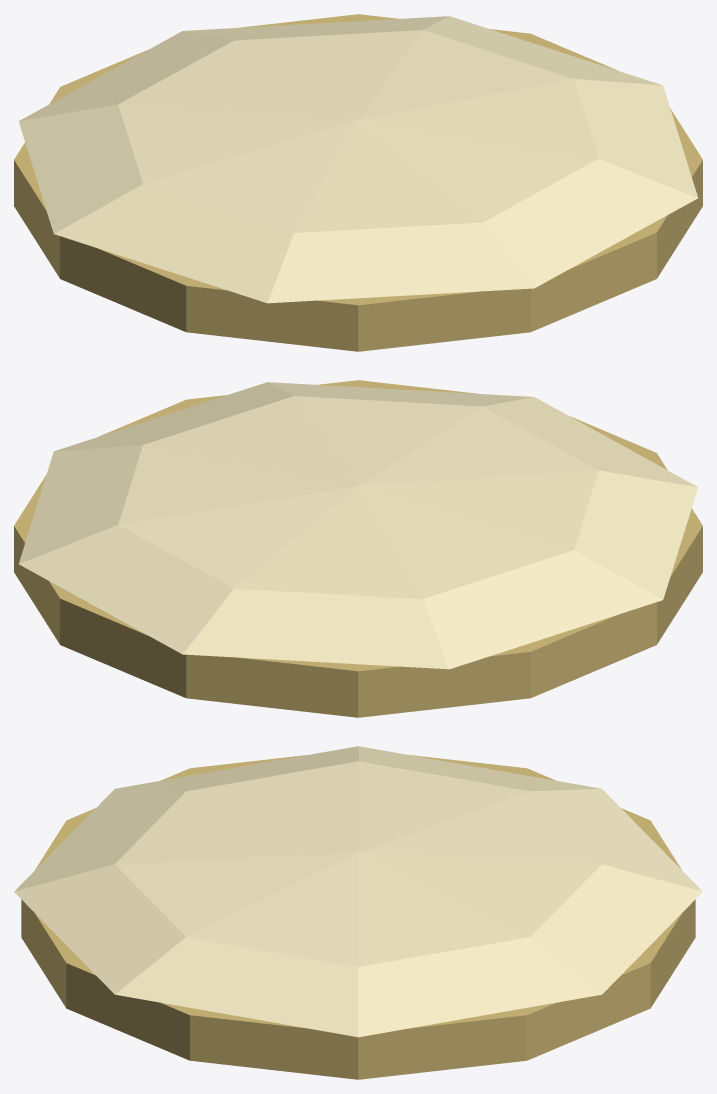
The model's file is pedestal.glb.
3 views of the same model, one above another, from view 1: azimuth 30°, elevation 25°; view 2: azimuth 150°, elevation 25°; view 3: azimuth 270°, elevation 25° (orthographic). The views are drawn at different scales.
Parts seen in each view (by area): view 1: pedestal_Surface; view 2: pedestal_Surface; view 3: pedestal_Surface.
Boxes of the visible parts, left/top/right/bottom form: pedestal_Surface: left=14, top=14, right=702, bottom=351; pedestal_Surface: left=14, top=380, right=702, bottom=717; pedestal_Surface: left=14, top=746, right=702, bottom=1079.
Bounding box in the file's own units: 0.96 × 0.13 × 0.96.
Materials: 1 (1 with a texture image).
